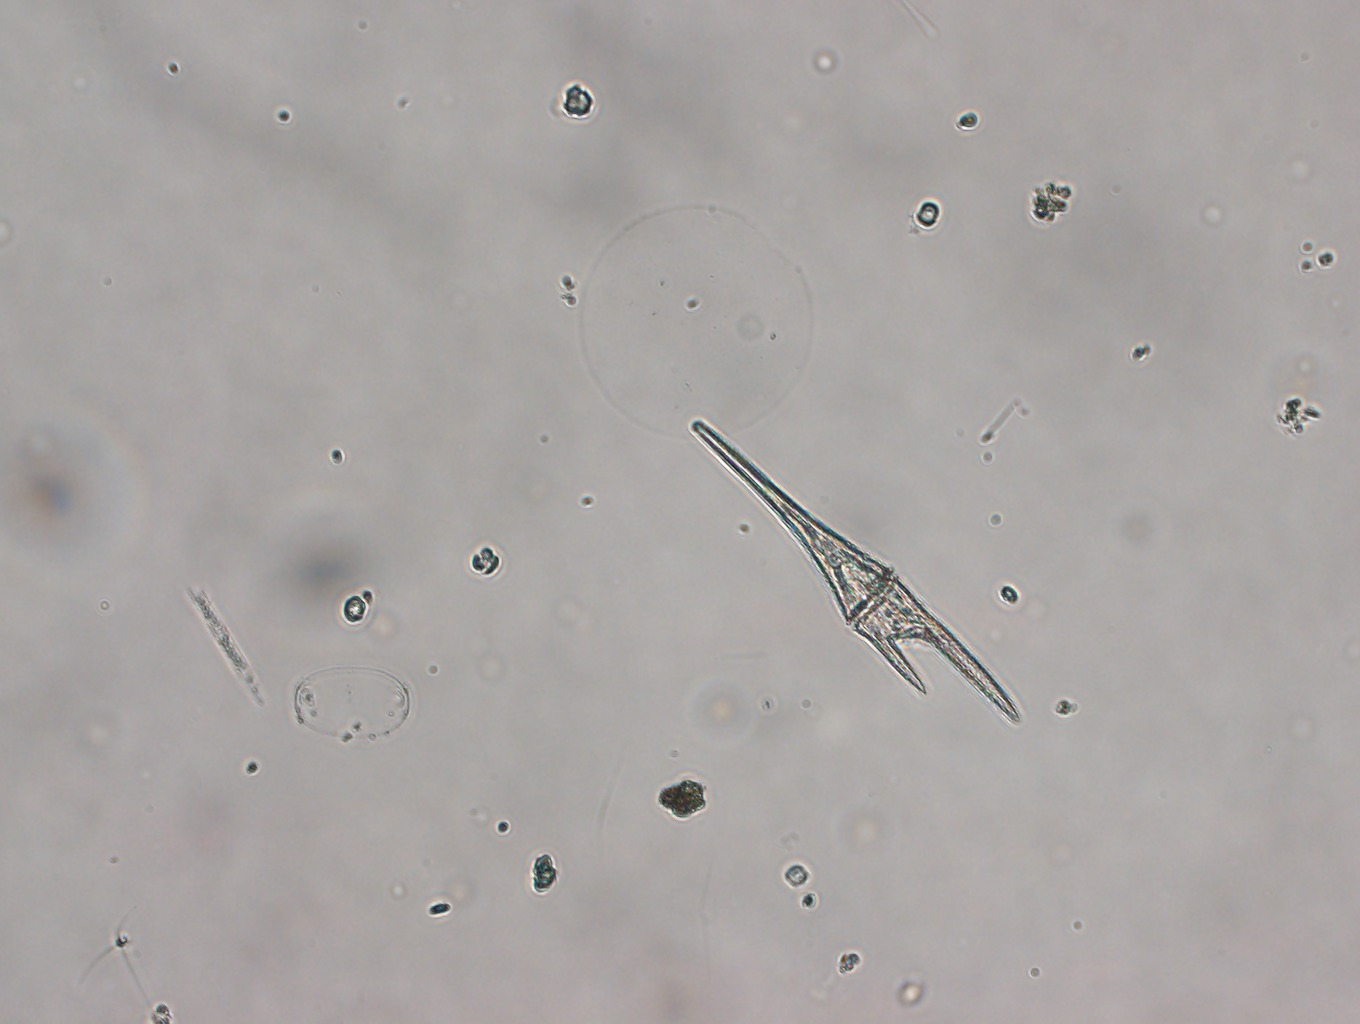ceratium furca: (677, 416, 1033, 735)
